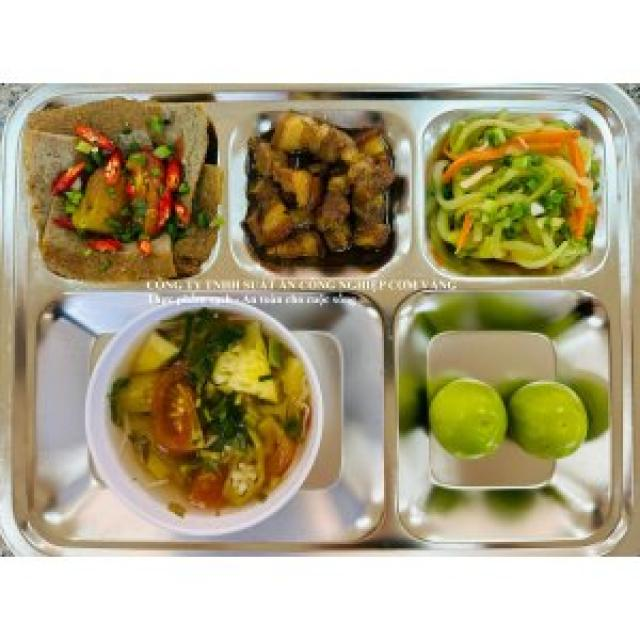canh chua: (111, 309, 309, 514)
kho tieu: (245, 111, 393, 260)
